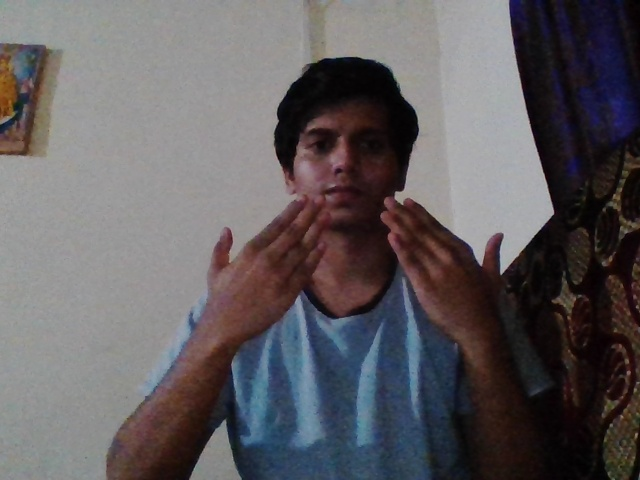Thank You: (191, 193, 510, 327)
